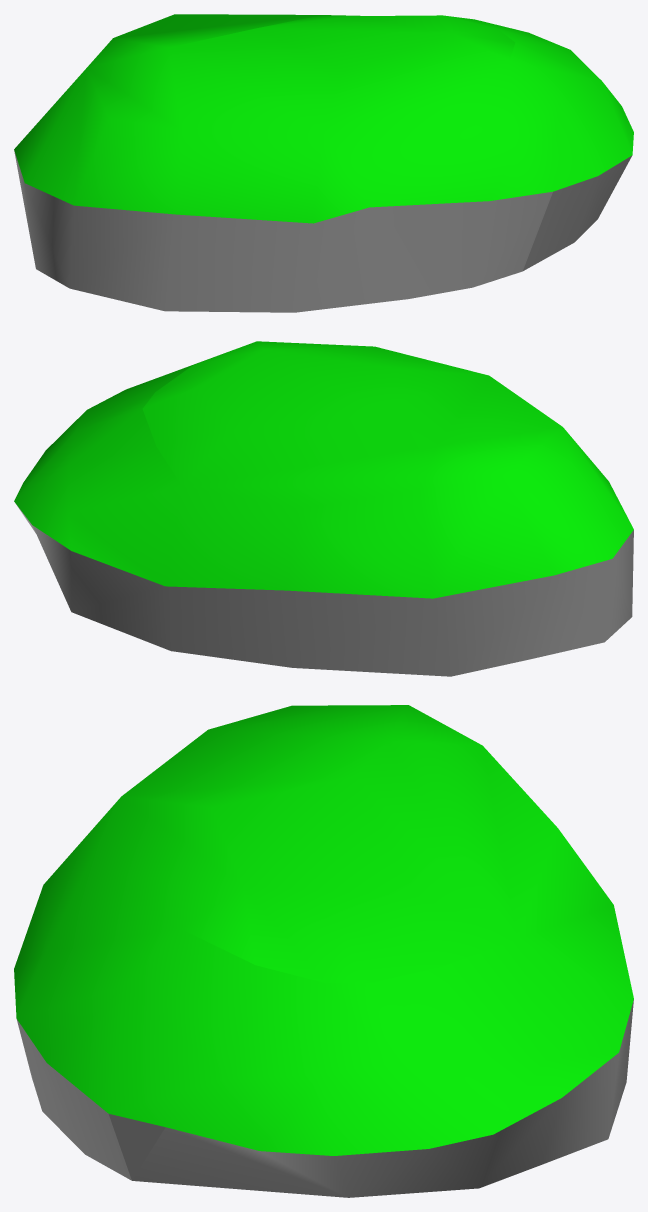
The model's file is rock_gen_round_mini_G.fbx.
The picture shows the model from 3 angles, top to bottom: view 1: azimuth 30°, elevation 25°; view 2: azimuth 150°, elevation 25°; view 3: azimuth 270°, elevation 25°; orthographic projection. The views are drawn at different scales.
Visible parts, largest first — view 1: rock_gen_round_mini_G; view 2: rock_gen_round_mini_G; view 3: rock_gen_round_mini_G.
Boxes of the visible parts, <box> form: rock_gen_round_mini_G: <box>14,14,633,312</box>; rock_gen_round_mini_G: <box>14,341,633,676</box>; rock_gen_round_mini_G: <box>14,705,633,1197</box>.
Bounding box in the file's own units: 18.32 × 5.81 × 13.33.
